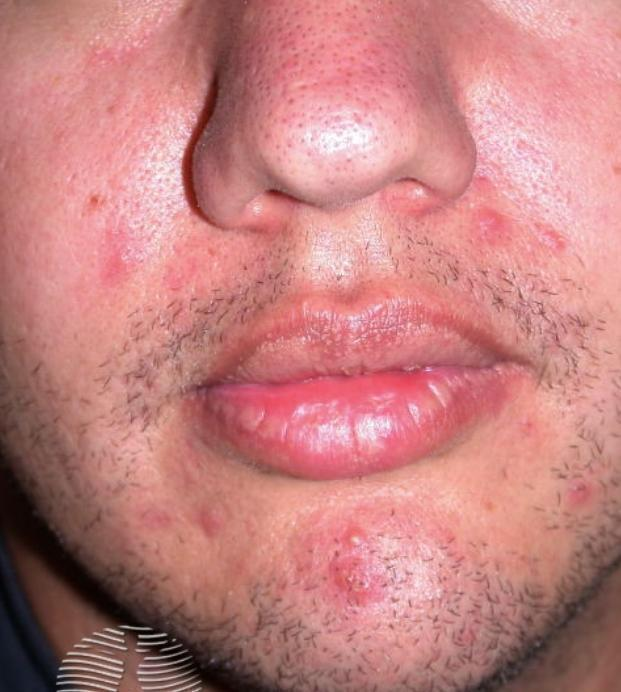papular: (79, 236, 150, 299), (464, 194, 515, 251), (324, 514, 384, 558), (192, 505, 241, 554), (331, 559, 381, 607), (529, 224, 574, 269), (573, 475, 612, 499)
